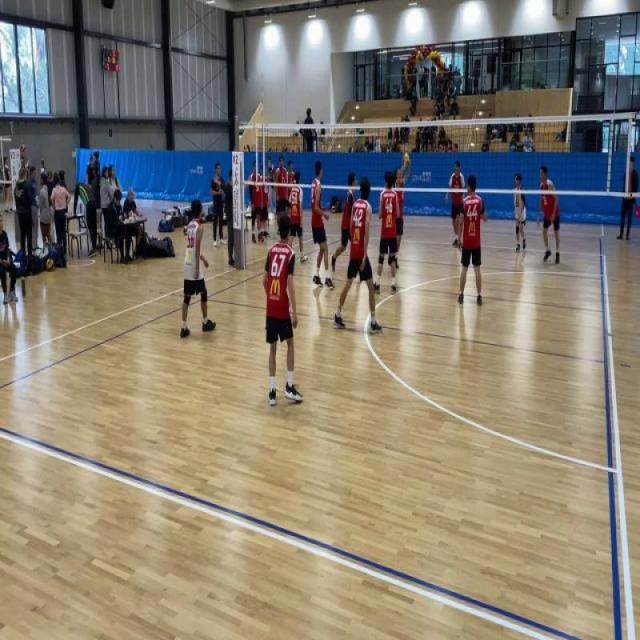volleyball: (46, 258, 54, 272), (402, 150, 410, 163), (182, 225, 188, 237), (21, 144, 26, 154), (330, 205, 336, 213), (148, 234, 154, 241), (157, 236, 162, 242)
